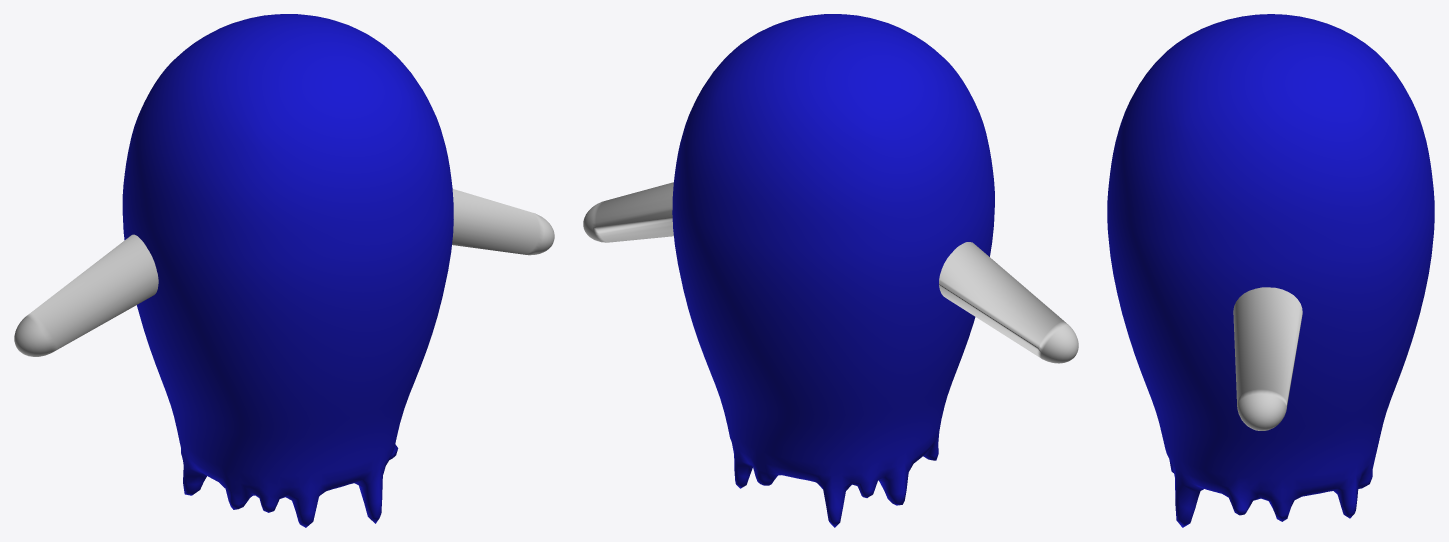
The model's file is beforeThrow_00009.obj.
The picture shows the model from 3 angles, left to right: view 1: azimuth 30°, elevation 25°; view 2: azimuth 150°, elevation 25°; view 3: azimuth 270°, elevation 25°; orthographic projection. The views are drawn at different scales.
Parts seen in each view (by area): view 1: Cube, Sphere.001, Sphere; view 2: Cube, Sphere.001, Sphere; view 3: Cube, Sphere.
Part boxes in pixels (x1,y1,x2,y2): Cube: [122, 14, 453, 527]; Sphere.001: [14, 234, 158, 356]; Sphere: [452, 189, 554, 255]; Cube: [672, 14, 994, 527]; Sphere.001: [939, 242, 1078, 363]; Sphere: [583, 182, 673, 242]; Cube: [1107, 14, 1434, 527]; Sphere: [1233, 287, 1302, 430].
Size of the model in its own units: 0.5267 by 0.4583 by 0.2859.
